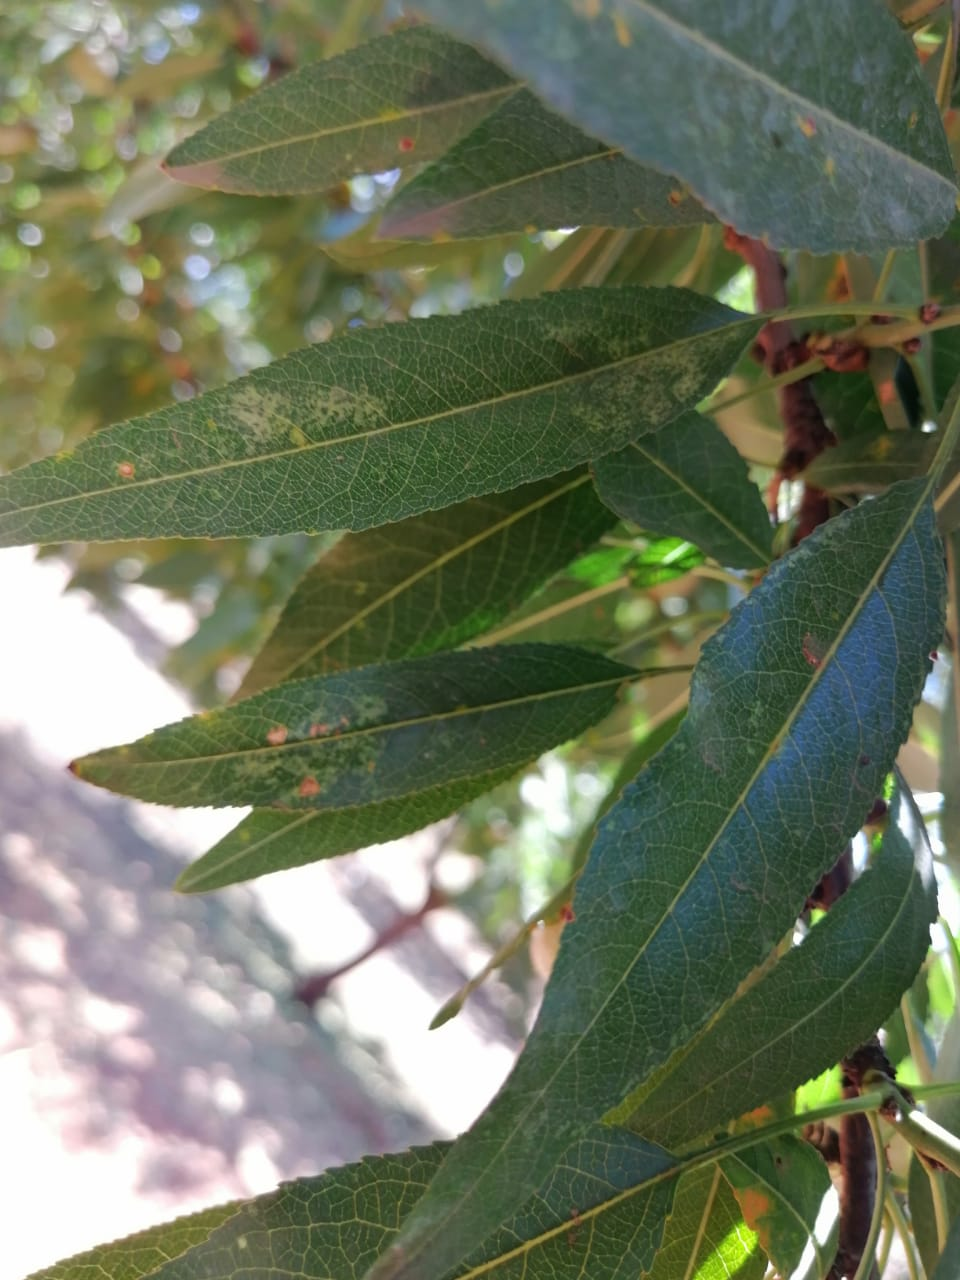faux tigre: (1, 287, 764, 546), (65, 642, 634, 815)
